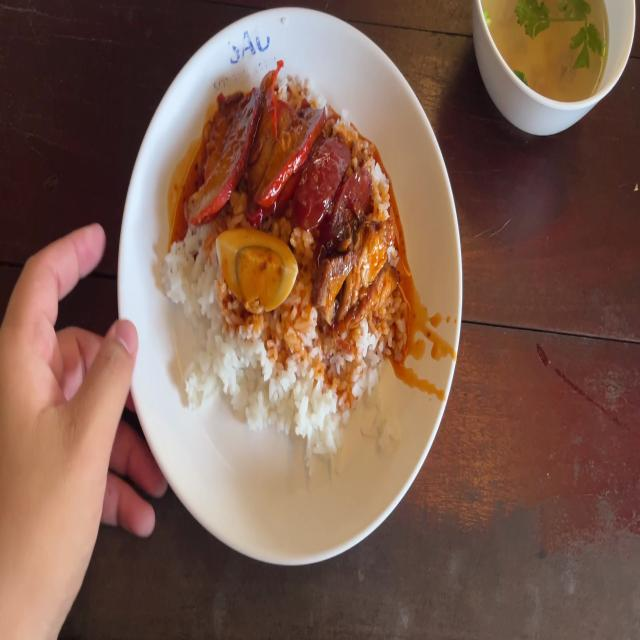01boiled_egg: (222, 228, 290, 311)
01chainese_sausage: (301, 136, 364, 250)
01crispy_pork: (323, 228, 399, 321)
01red_pork: (191, 85, 307, 228)
01red_pork_and_crispy_pork: (171, 80, 397, 418)
01rice: (232, 315, 323, 432), (167, 240, 227, 399), (321, 325, 392, 434)
